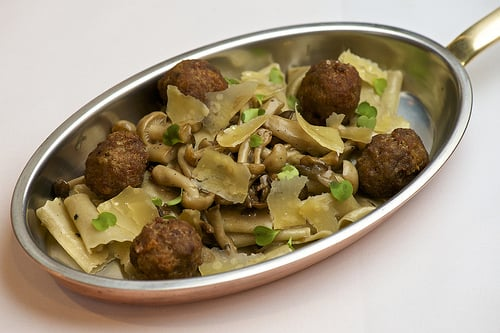sushi: (13, 4, 487, 311)
